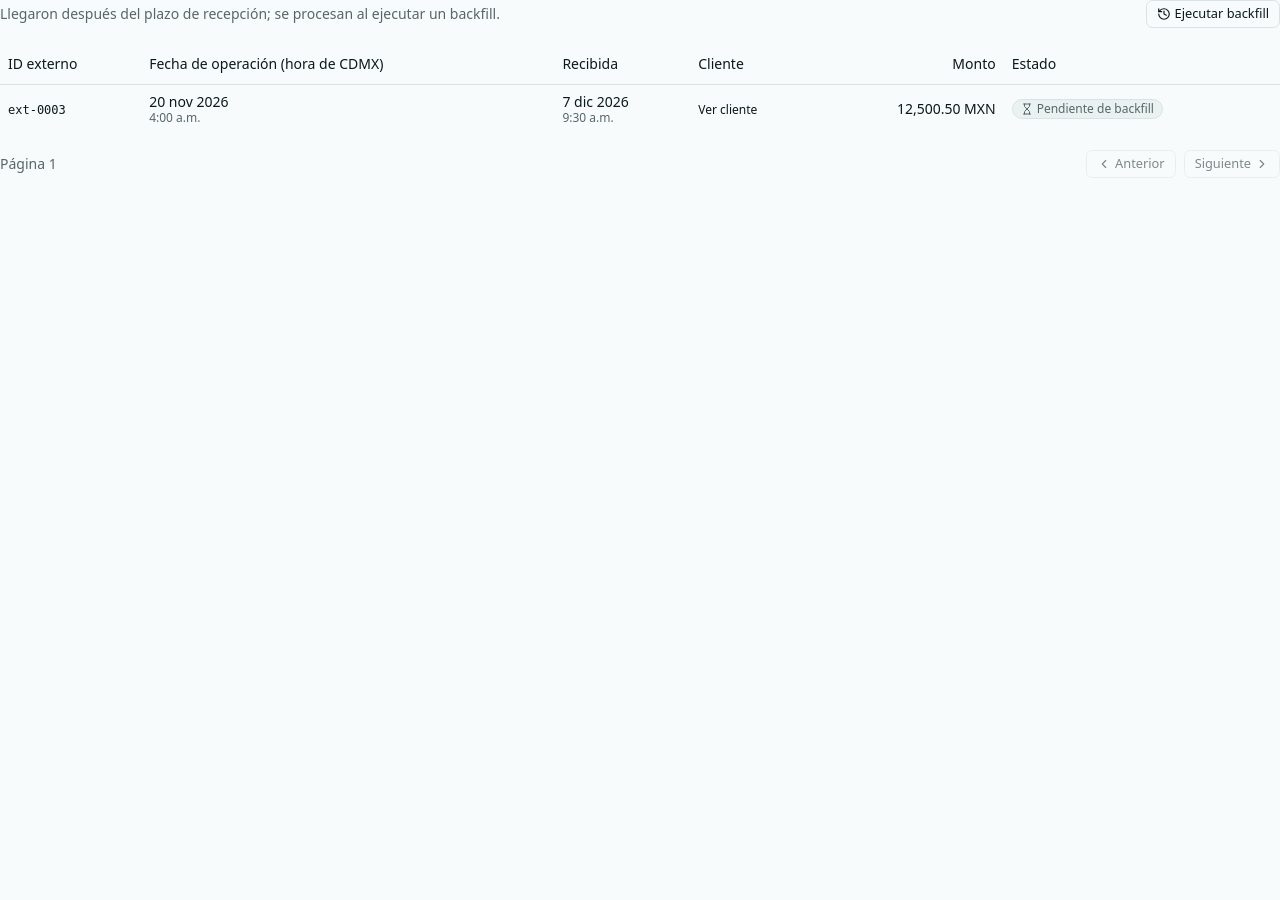
BackfillTab › posts from, to and the party id with an Idempotency-Key, then shows the toast
The width and height of the screenshot is (1280, 900).
Click the button "Ejecutar backfill": (1213, 14) [1146,0,1279,28]
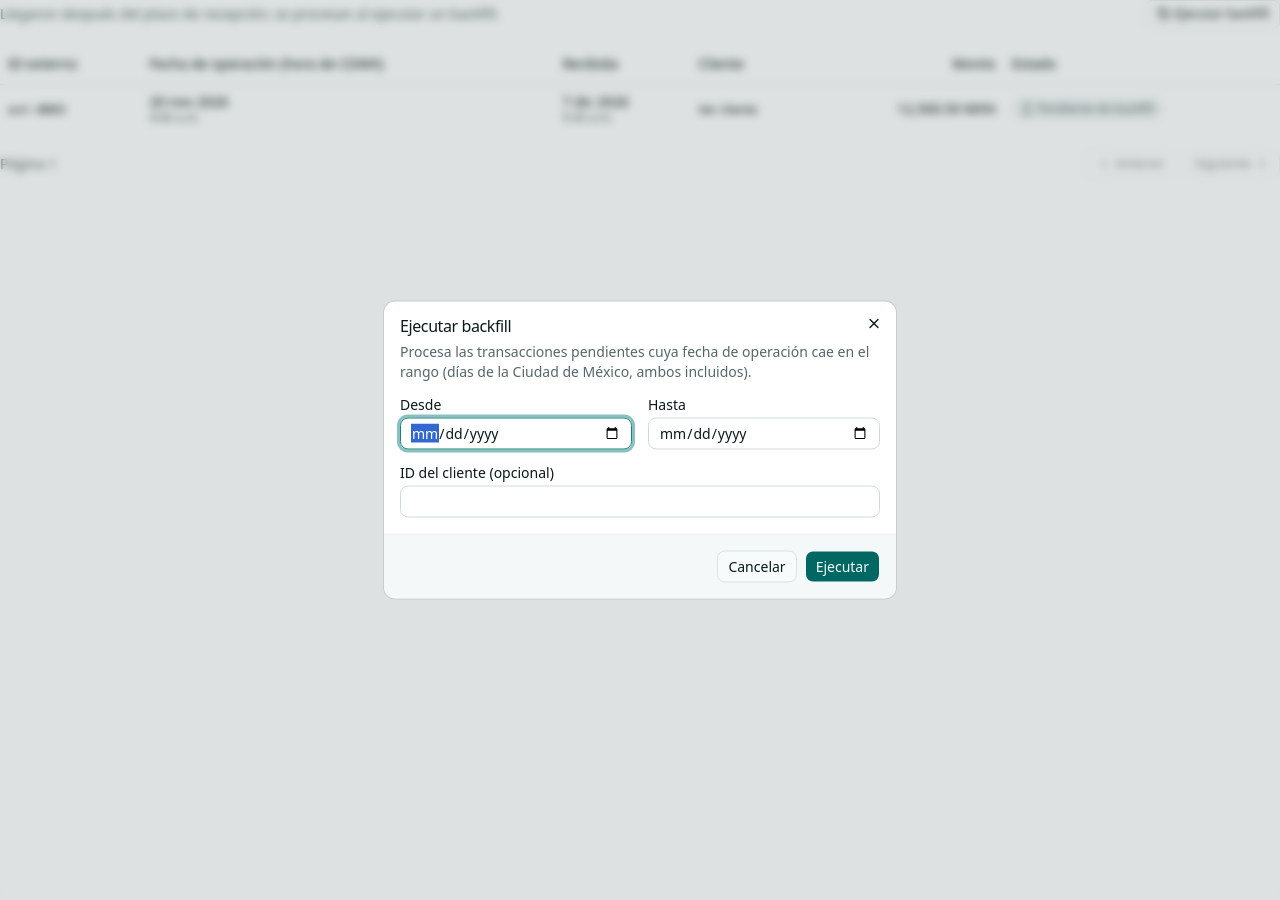
In the date field labelled "Desde": (516, 434) [400,418,632,450], type "2026-11-01"
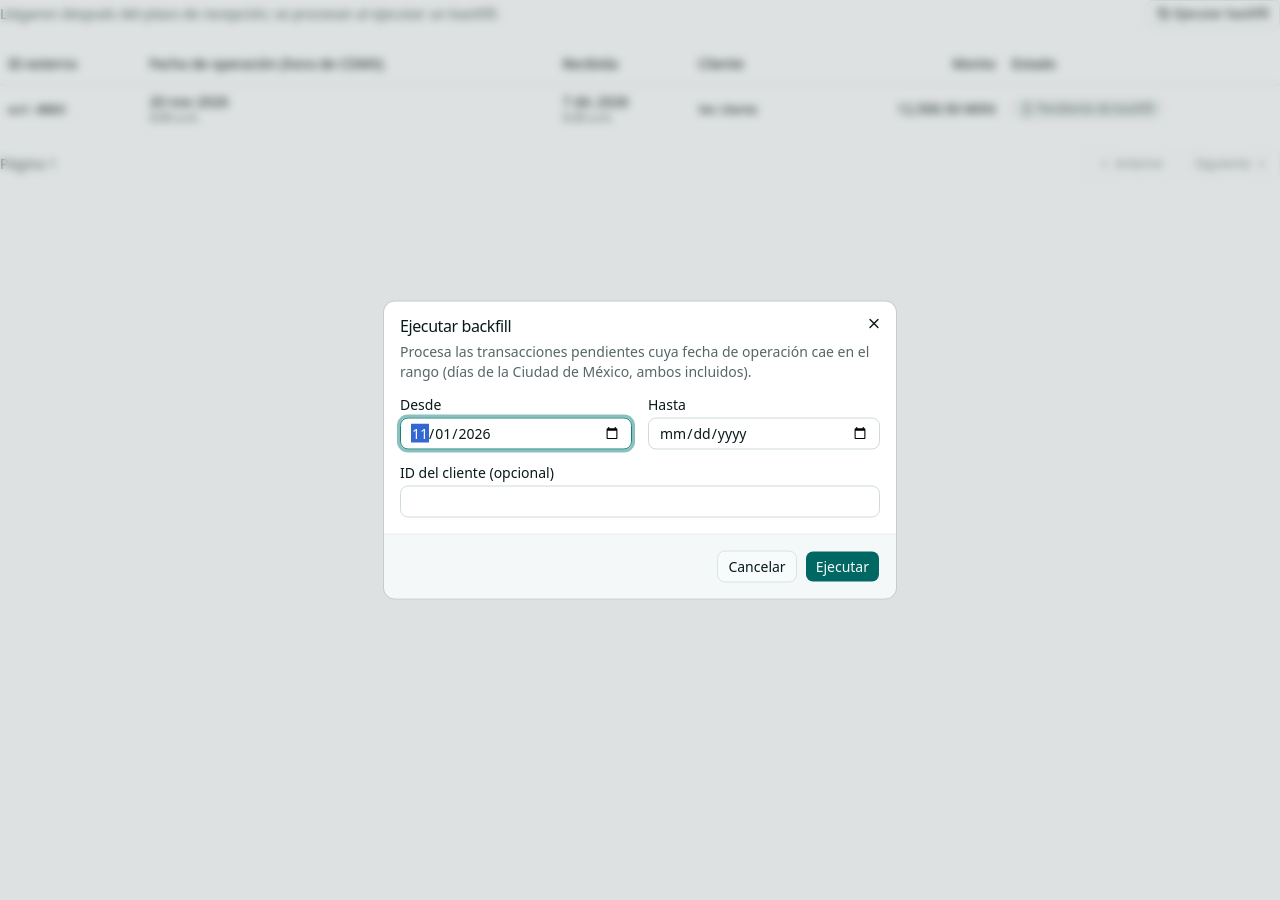
In the date field labelled "Hasta": (764, 434) [648,418,880,450], type "2026-11-30"
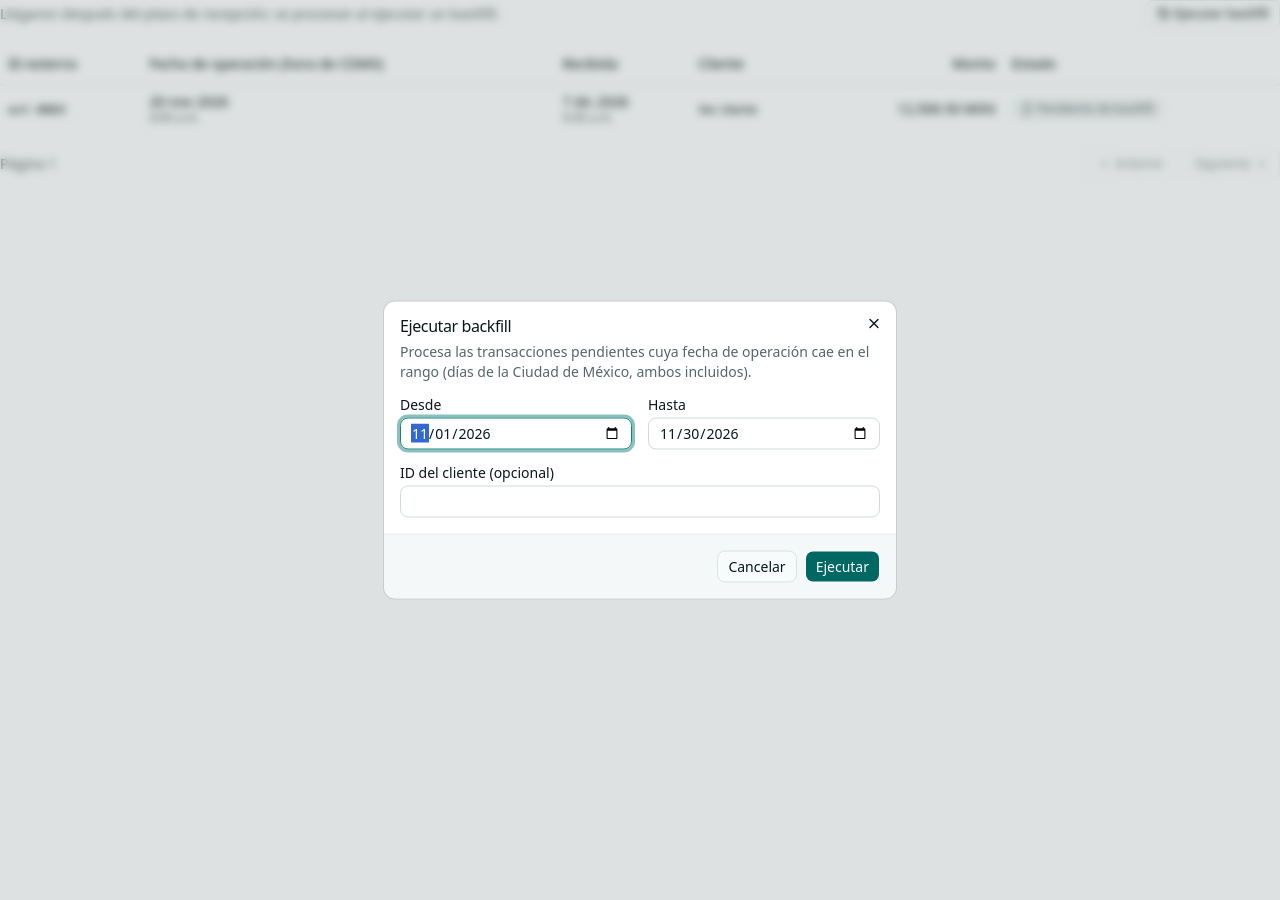
In the field labelled "ID del cliente (opcional)": (640, 502) [400,486,880,518], type "0191d3a2-6b1c-7000-8000-0000000000c1"
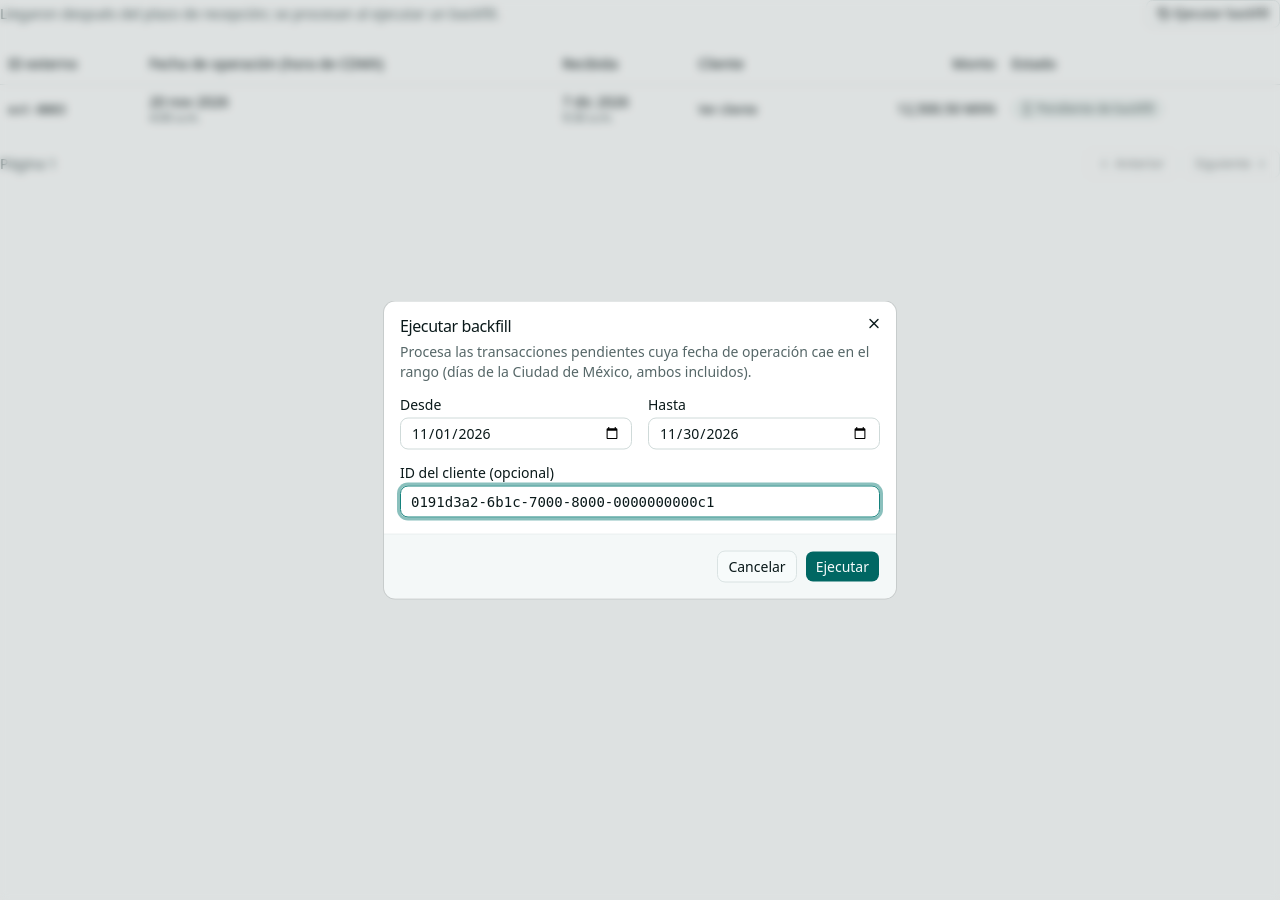
Click the button "Ejecutar": (842, 566) [805,550,880,582]
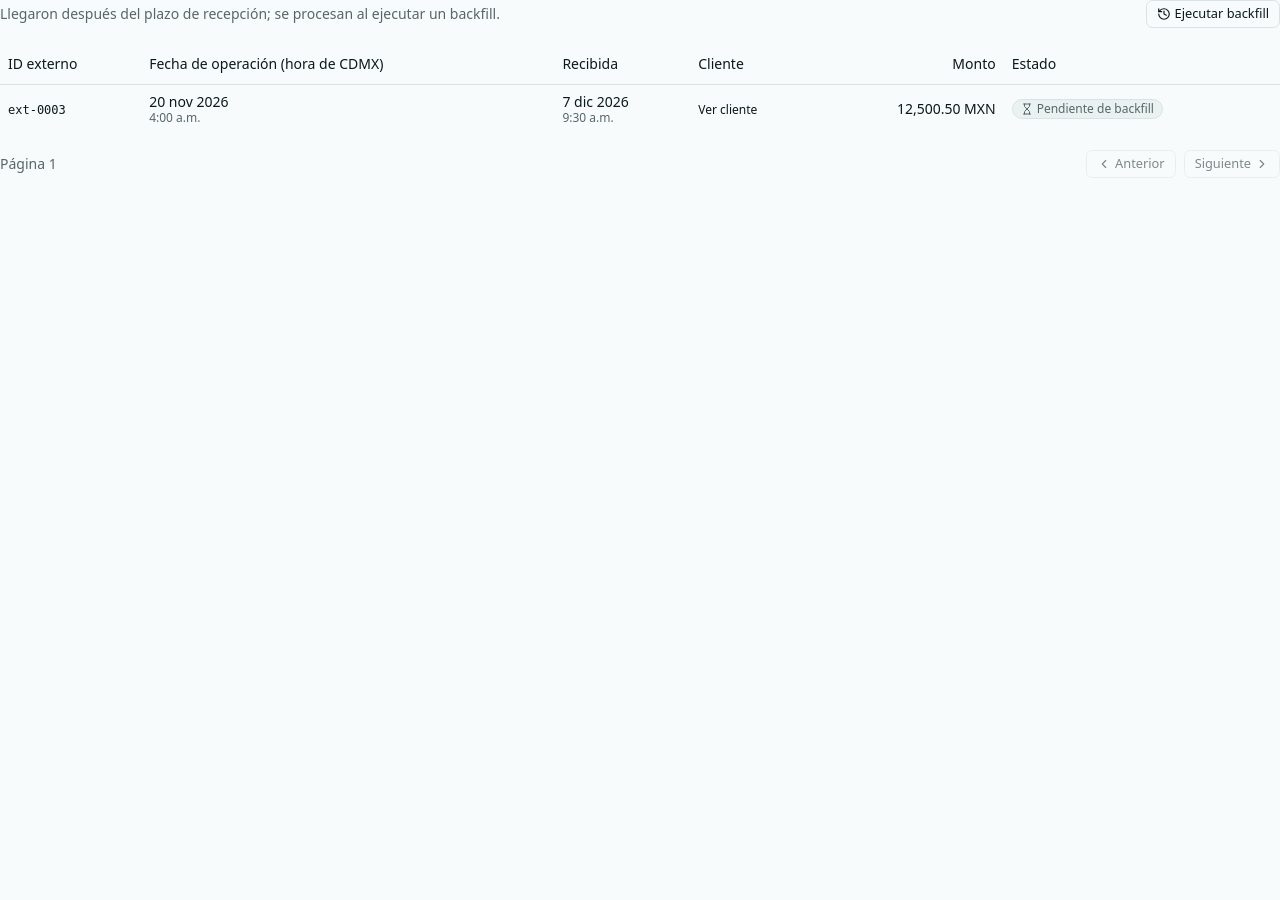
Expected: the dialog is gone
